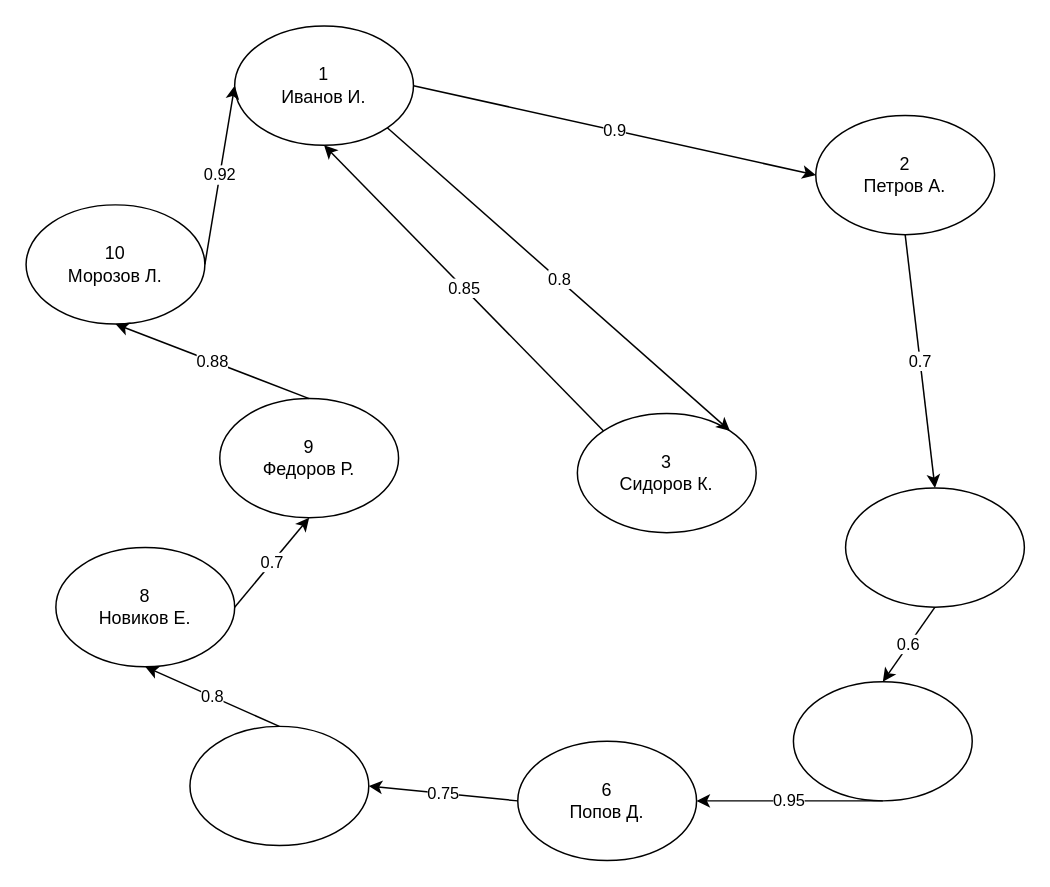
Some shapes in this 1050 by 887 pixel diagram are drawn without their labels. The centre of each missing label's shape, as x and y in pixels:
"4 Кузнецов М." goes at pixel 934 546.
"5 Смирнов В." goes at pixel 882 740.
"7 Васильев Н." goes at pixel 278 785.
